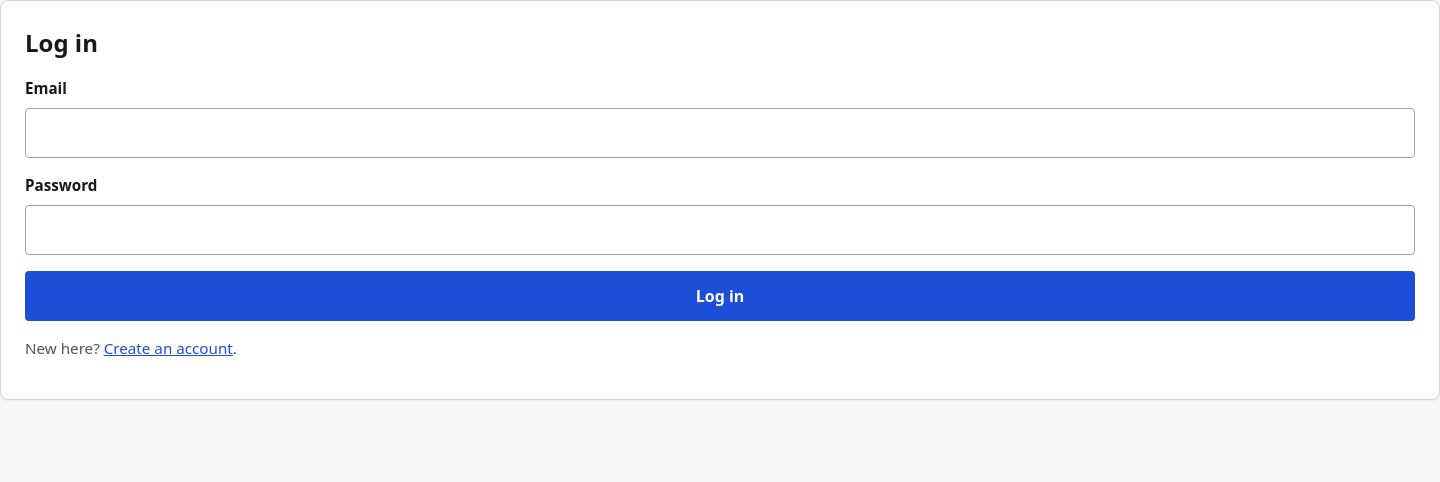
Test case: <LoginPage /> › renders the error message in <ErrorBanner /> on 401
Type "a@b.co" into the field labelled "Email" at (720, 133), box [25,108,1415,158]
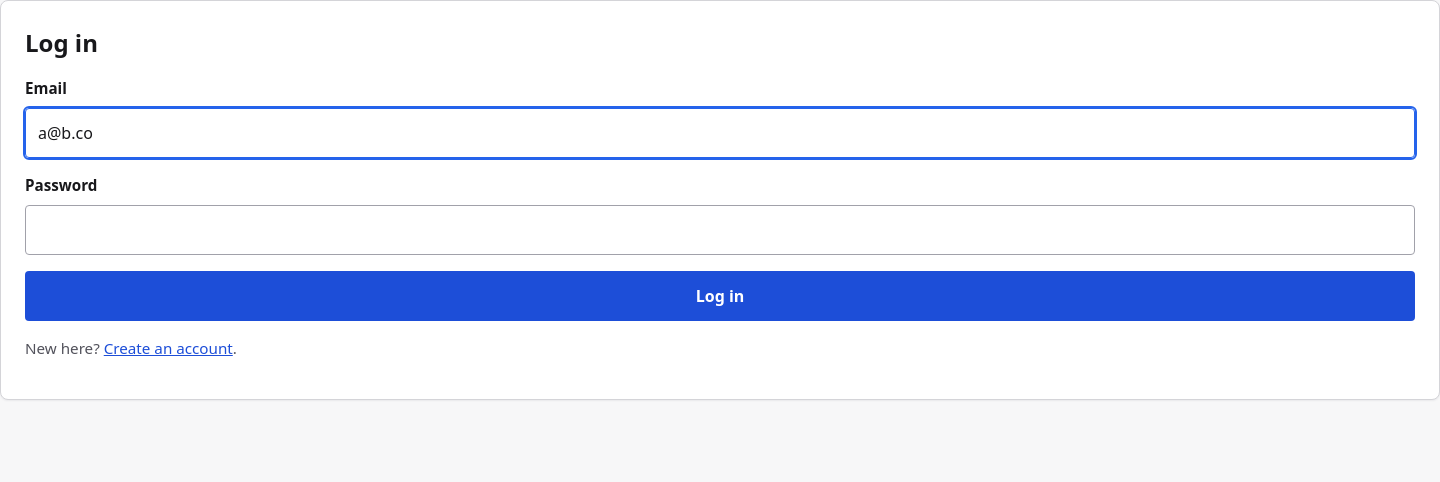
Type "password123" into the password field labelled "Password" at (720, 230), box [25,205,1415,255]
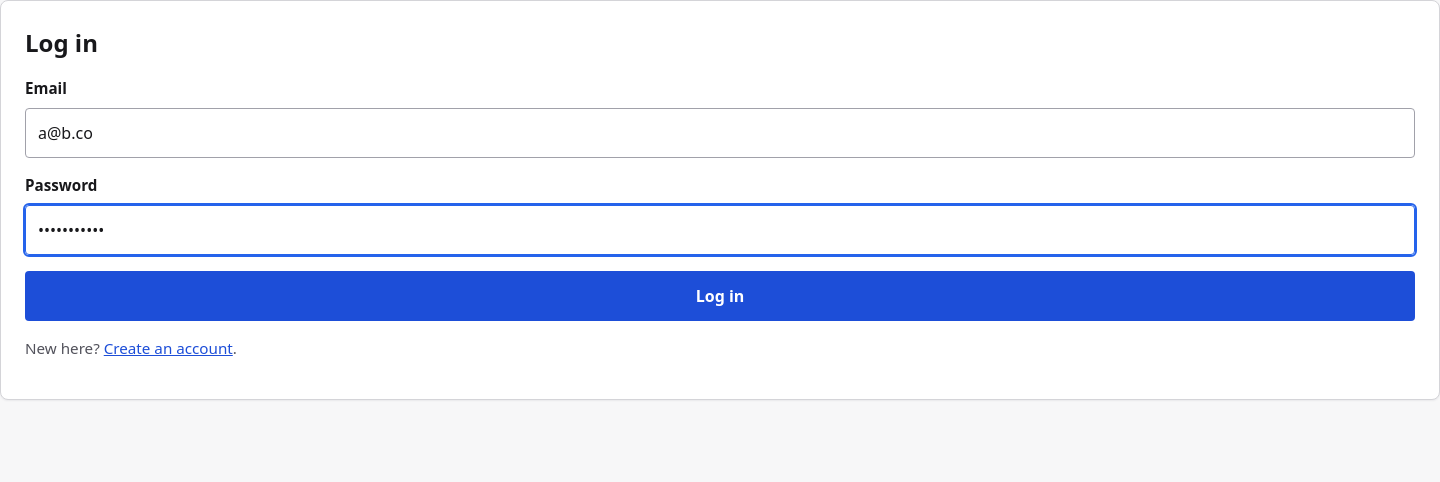
Click the button "Log in" at (720, 296), box [25,271,1415,321]
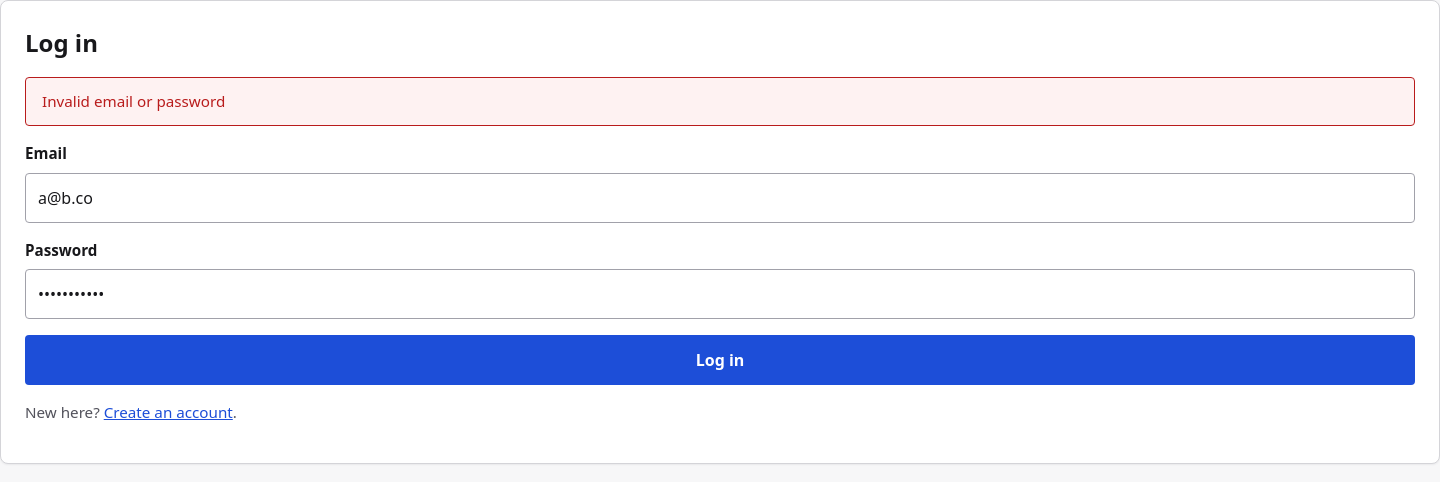
Result: the message reads "Invalid email or password" at [42,91,225,111]
